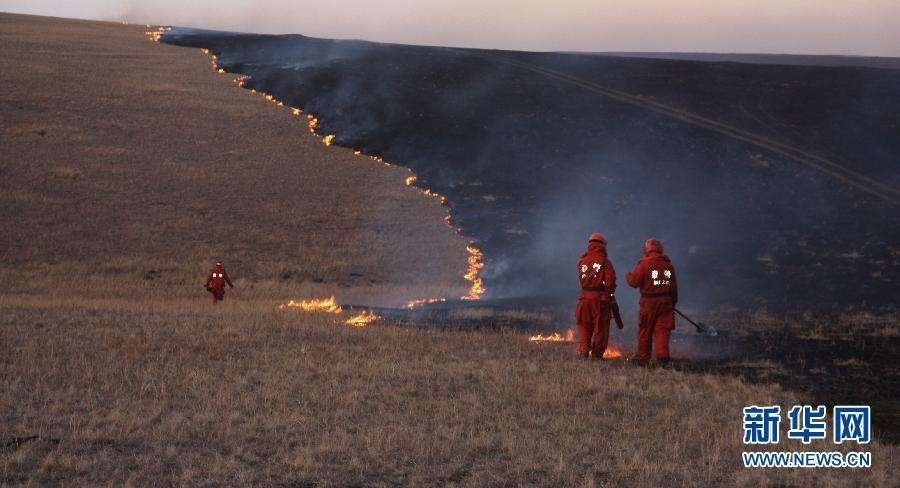fire: (196, 45, 330, 139), (349, 137, 450, 197), (527, 320, 630, 356), (200, 42, 225, 77), (145, 21, 166, 43), (600, 341, 625, 359)
